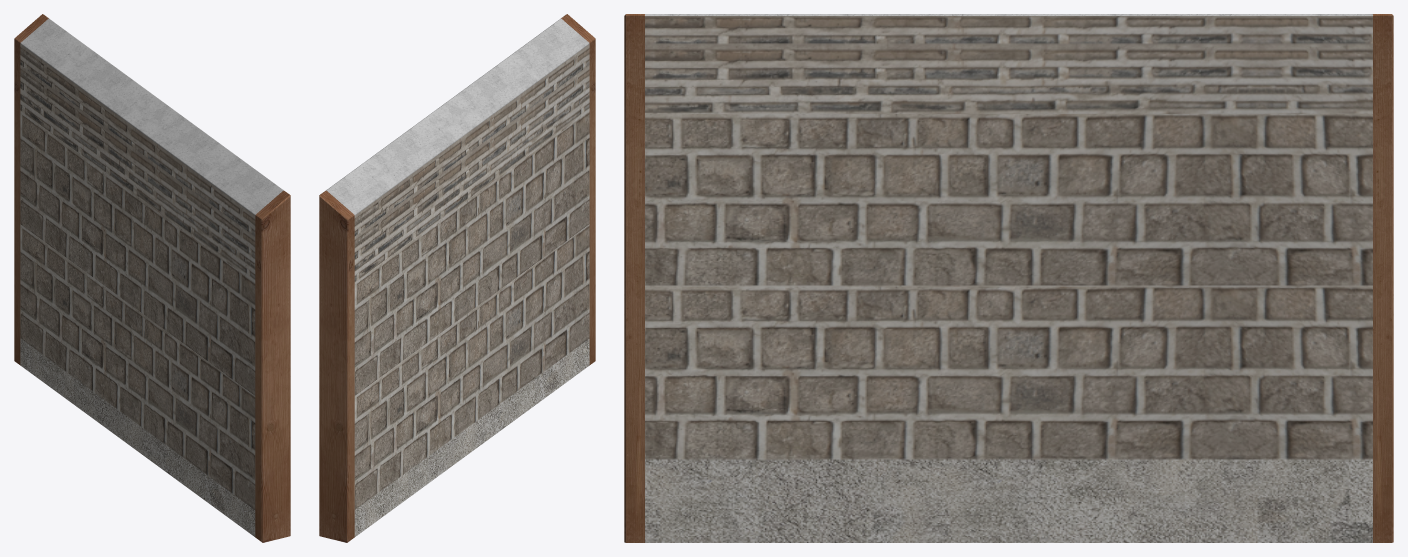
Rendered from SM_JSH_HG_StoneWallC.fbx.
The picture shows the model from 3 angles, left to right: view 1: azimuth 30°, elevation 25°; view 2: azimuth 150°, elevation 25°; view 3: azimuth 270°, elevation 25°; orthographic projection. The views are drawn at different scales.
Visible parts, largest first — view 1: SM_JSH_HG_StoneWallC; view 2: SM_JSH_HG_StoneWallC; view 3: SM_JSH_HG_StoneWallC.
Part boxes in pixels (x1,y1,x2,y2): SM_JSH_HG_StoneWallC: (14,14,290,542); SM_JSH_HG_StoneWallC: (319,14,595,542); SM_JSH_HG_StoneWallC: (624,14,1393,542).
Size of the model in its own units: 16.75 by 245 by 186.
Materials: 1 (1 with a texture image).
